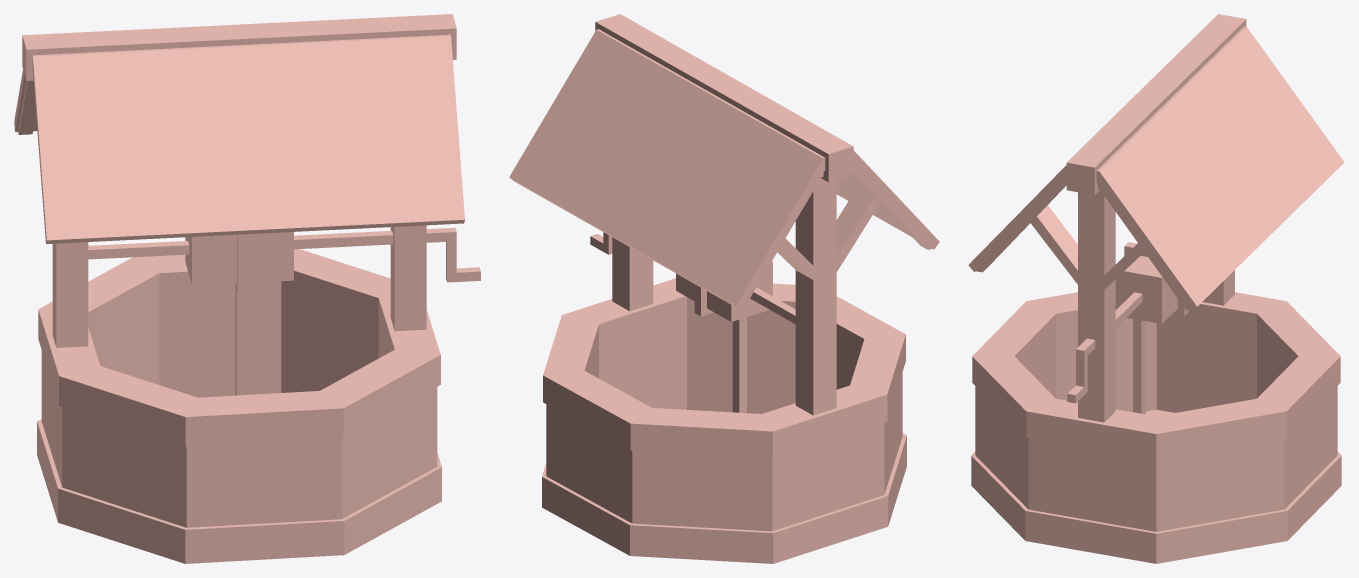
Rendered from Mega_Asset_s_Pack_Cylinder_048.FBX.
3 renders of one model, left to right at view 1: azimuth 30°, elevation 25°; view 2: azimuth 150°, elevation 25°; view 3: azimuth 270°, elevation 25°, orthographic. The views are drawn at different scales.
Parts seen in each view (by area): view 1: Mega_Asset_s_Pack_Cylinder_048; view 2: Mega_Asset_s_Pack_Cylinder_048; view 3: Mega_Asset_s_Pack_Cylinder_048.
Boxes of the visible parts, x1=… form: Mega_Asset_s_Pack_Cylinder_048: x1=14, y1=14, x2=480, y2=563; Mega_Asset_s_Pack_Cylinder_048: x1=509, y1=14, x2=939, y2=563; Mega_Asset_s_Pack_Cylinder_048: x1=968, y1=14, x2=1344, y2=563.
Size of what is drawn, in the model's own units: 474 by 405 by 469.
